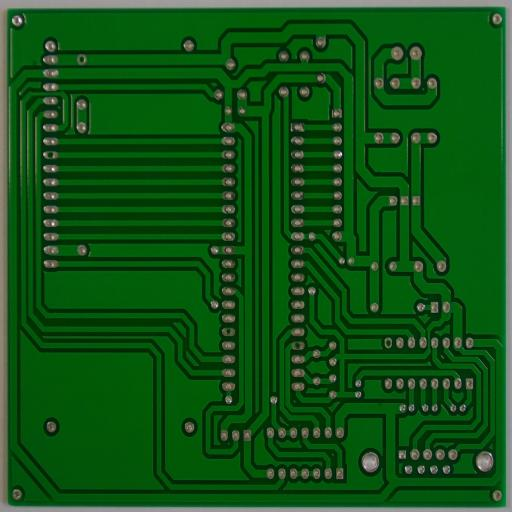missing_hole: (222, 324, 235, 340), (74, 52, 88, 66), (44, 148, 58, 162), (383, 336, 395, 351), (292, 339, 304, 352)
